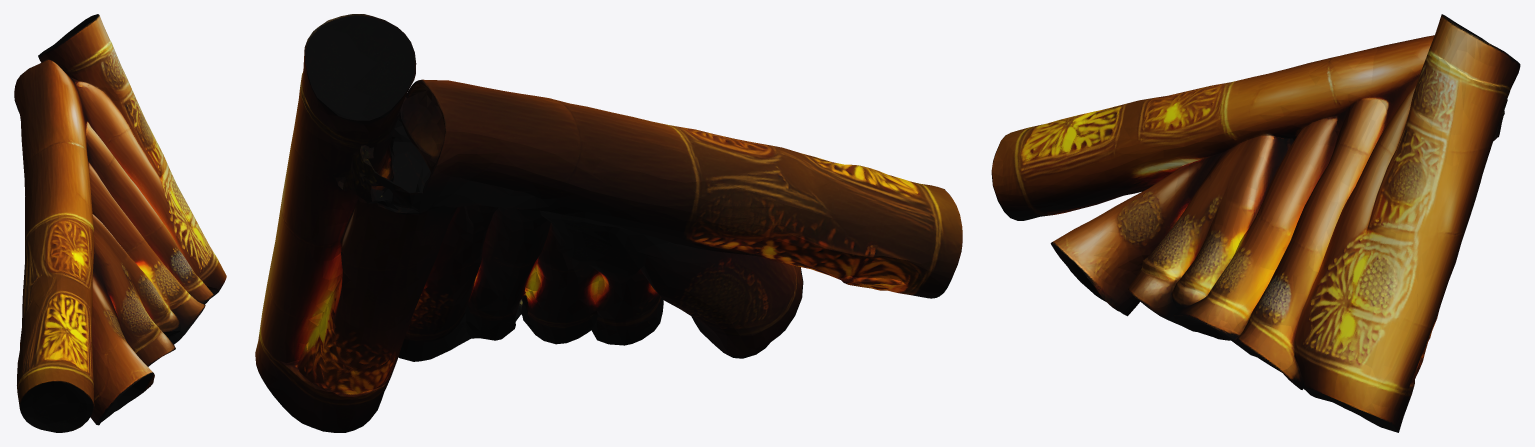
The model's file is hollowed-bamboo-panpipes-art-deco.jpeg.glb.
3 views of the same model, side by side, from view 1: azimuth 30°, elevation 25°; view 2: azimuth 150°, elevation 25°; view 3: azimuth 270°, elevation 25° (orthographic). The views are drawn at different scales.
Visible parts, largest first — view 1: world; view 2: world; view 3: world.
Part boxes in pixels (x1=…): world: x1=14, y1=14, x2=226, y2=432; world: x1=255, y1=14, x2=962, y2=432; world: x1=991, y1=14, x2=1520, y2=432.
Size of the model in its own units: 0.9158 by 0.7915 by 0.9942.
1 material, 1 textured.
